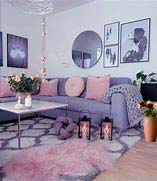copymove: (98, 113, 114, 141)
removal: (45, 33, 67, 63)
spliced: (138, 100, 157, 141)
